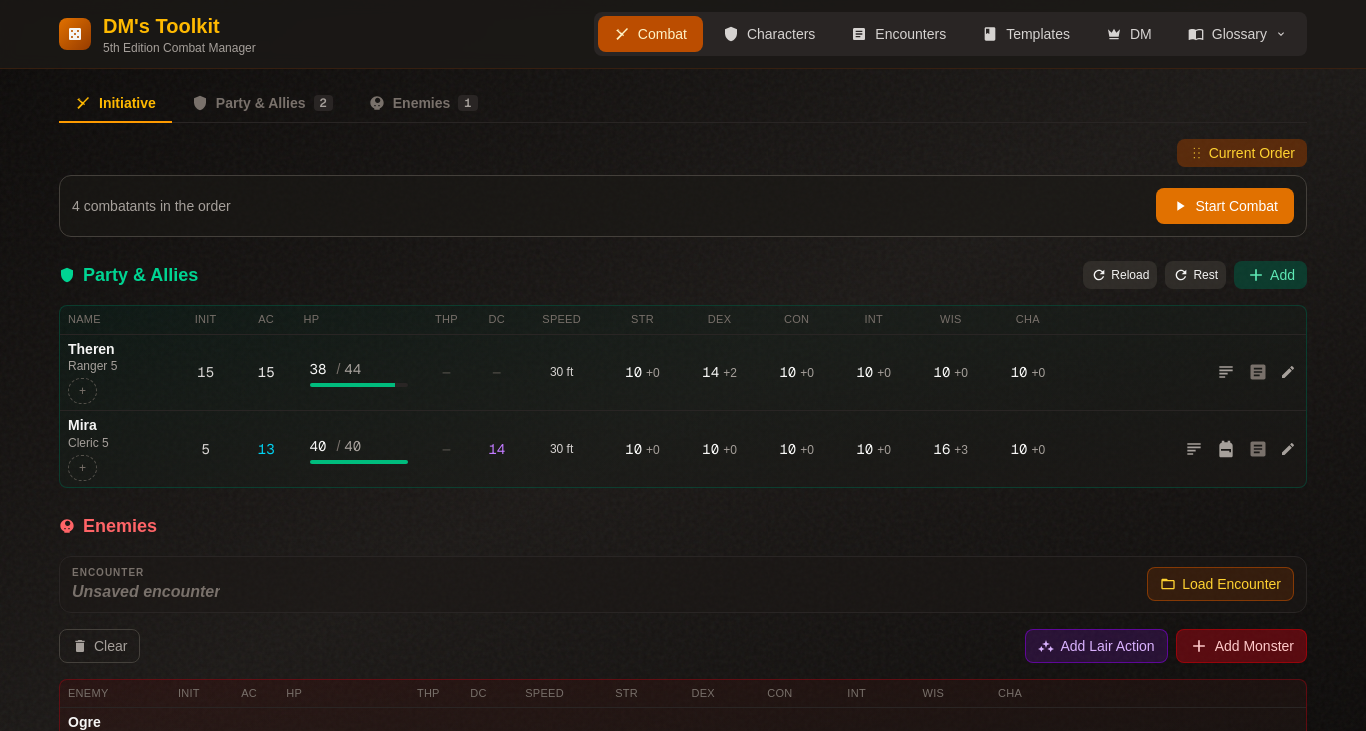
CombatPage — turn tracker › Up Next wraps into the next round from the last combatant
This screenshot has width=1366, height=731.
Click the button "Start Combat" at x=1225, y=206, box [1156, 188, 1294, 224]
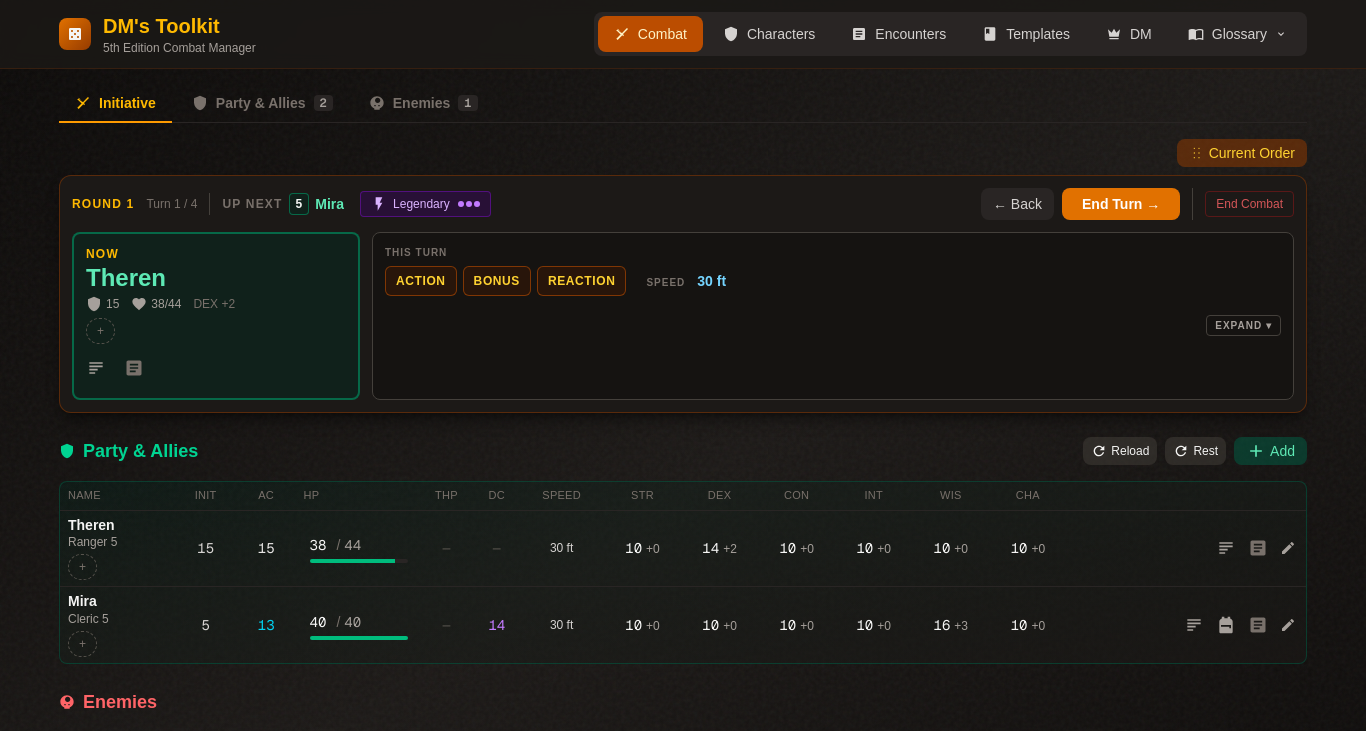
Click the button "← Back" at x=1018, y=204, box [981, 188, 1054, 220]
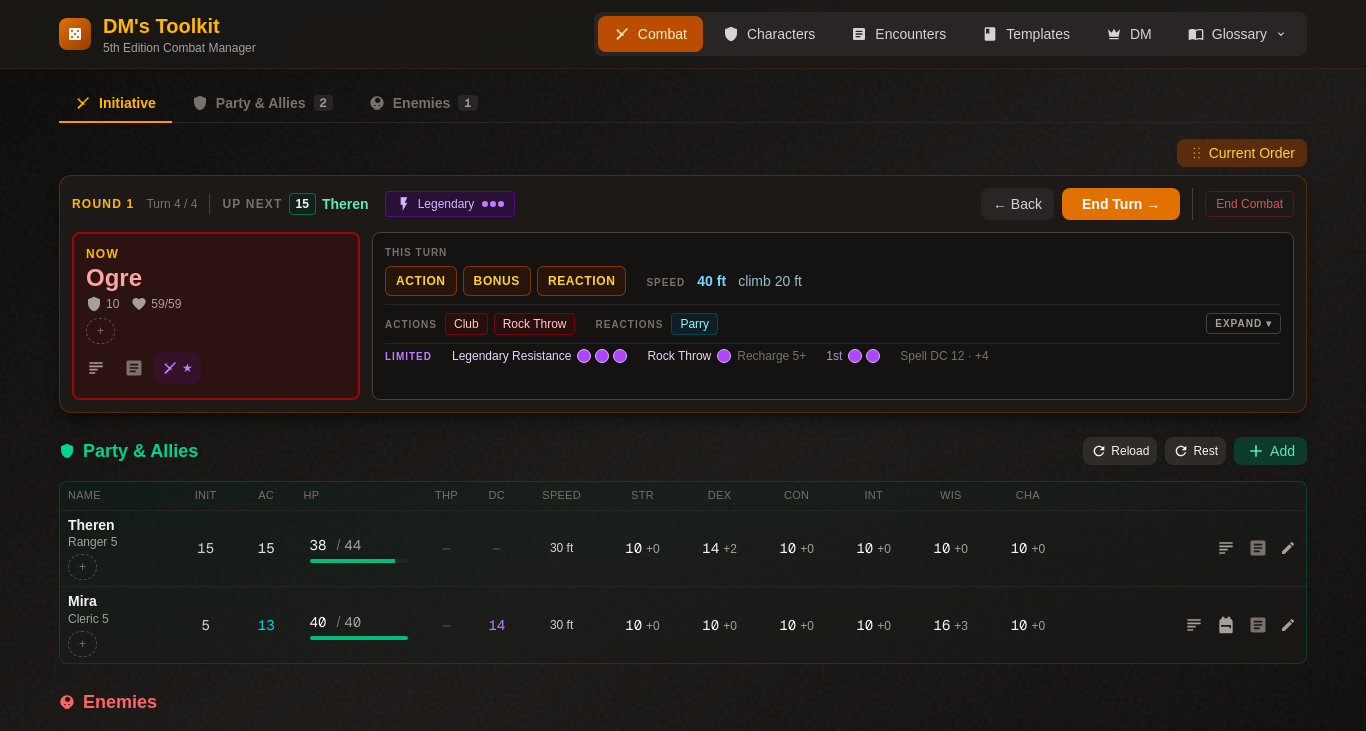
Expected: the button "Ogre" is shown, [86, 262, 142, 294]
Expected: the text "Theren" in the row of "Up Next" is shown, [322, 196, 369, 212]
